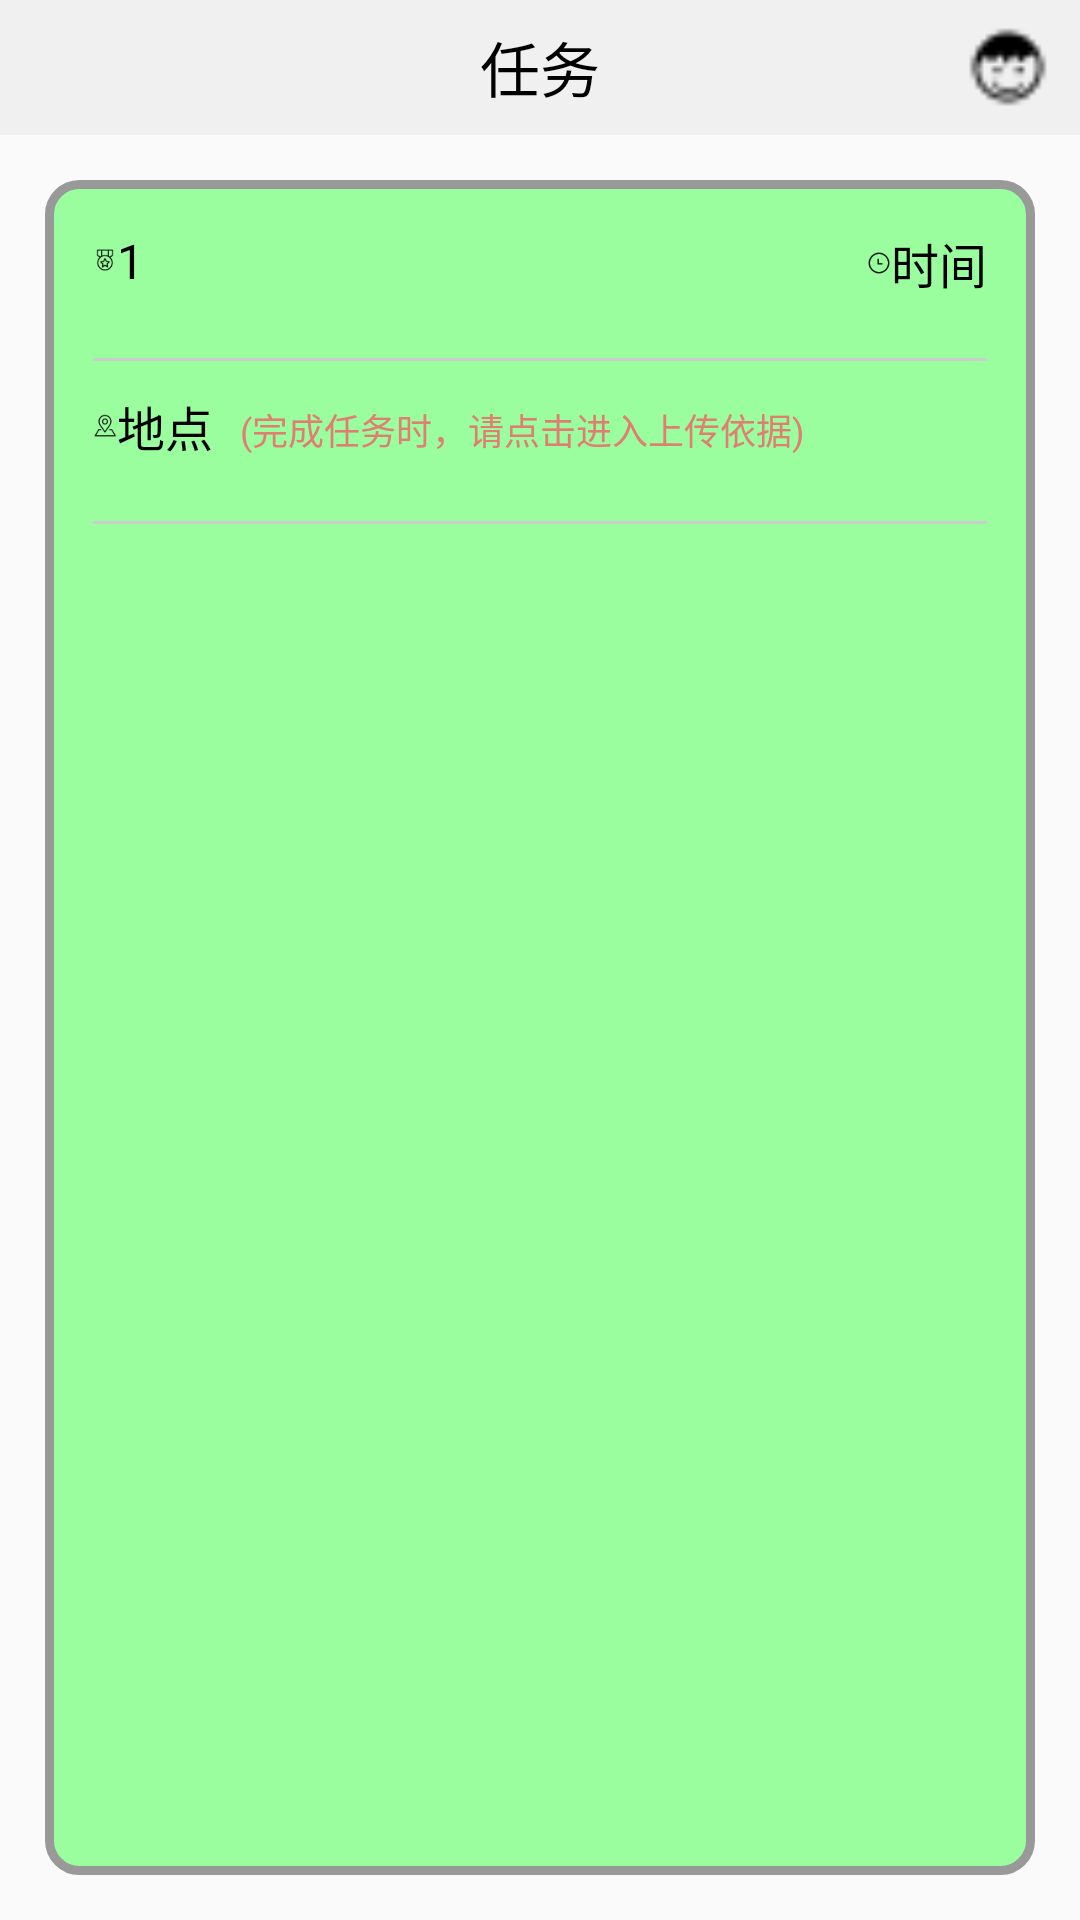

Icons on this 1080×1920 Android screen, each with its box as (x1, y1, x2, y2):
people: (970, 29, 1046, 105)
